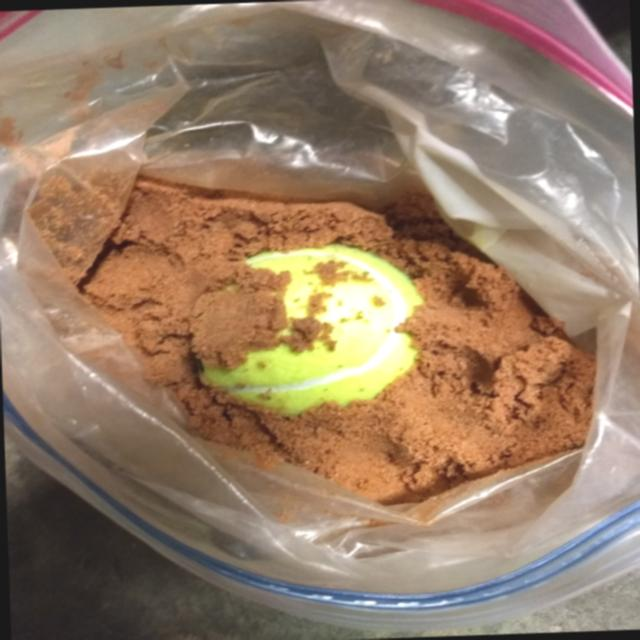tennis-ball: (190, 245, 424, 414)
